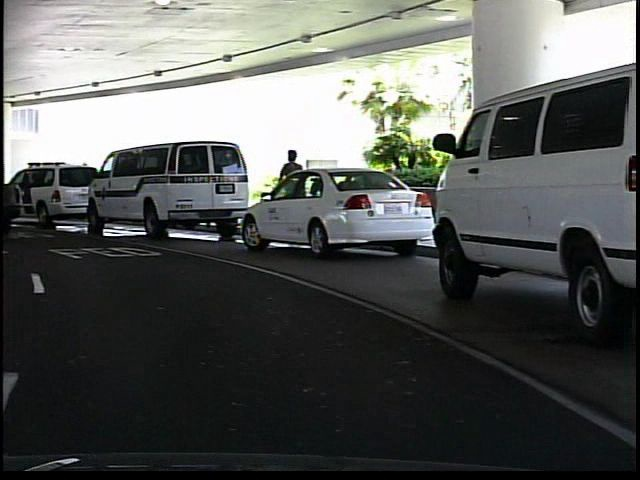person: (275, 144, 306, 229)
